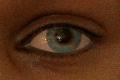eye: (47, 26, 82, 53)
